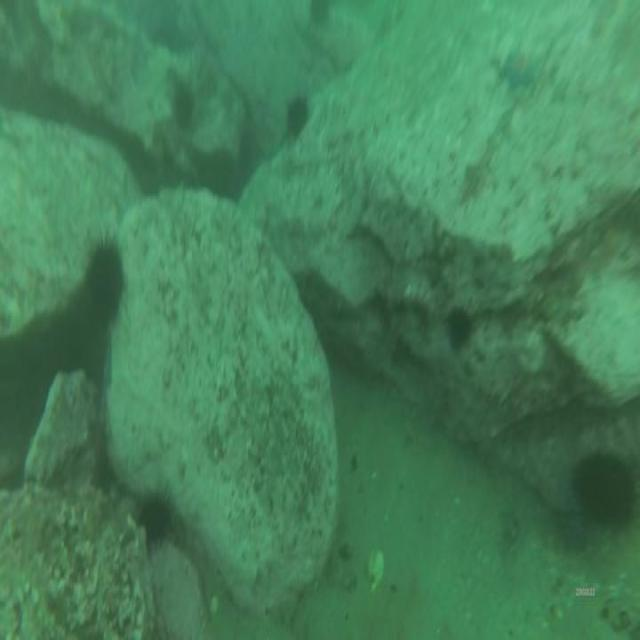echinus: (577, 451, 635, 522), (84, 245, 121, 316), (140, 496, 170, 542), (449, 305, 469, 346), (285, 95, 306, 131), (173, 87, 191, 122), (312, 3, 330, 24)
